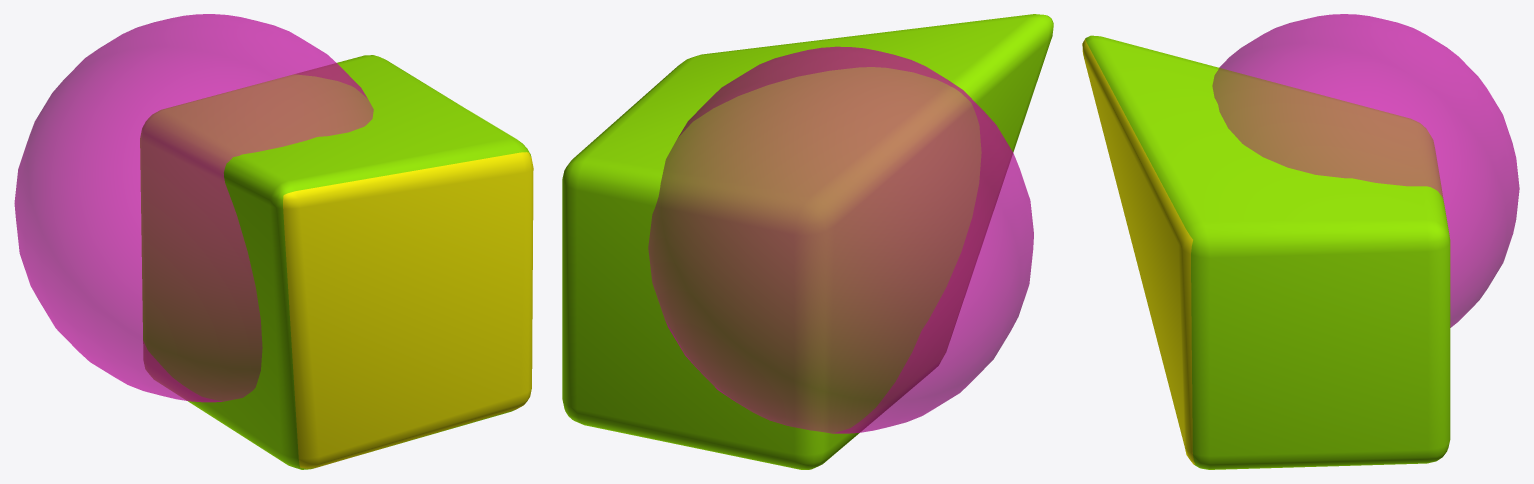
The picture shows the model from 3 angles, left to right: view 1: azimuth 30°, elevation 25°; view 2: azimuth 150°, elevation 25°; view 3: azimuth 270°, elevation 25°; orthographic projection. The views are drawn at different scales.
Visible parts, largest first — view 1: Cube, Sphere; view 2: Cube, Sphere; view 3: Cube, Sphere.
Part boxes in pixels (box(x1,y1,x2,y2)): Cube: box(140, 55, 533, 469); Sphere: box(14, 14, 373, 402); Cube: box(562, 14, 1053, 469); Sphere: box(648, 46, 1033, 433); Cube: box(1082, 35, 1450, 469); Sphere: box(1212, 14, 1519, 327).
Bounding box in the file's own units: 3.23 × 2.81 × 3.28.
